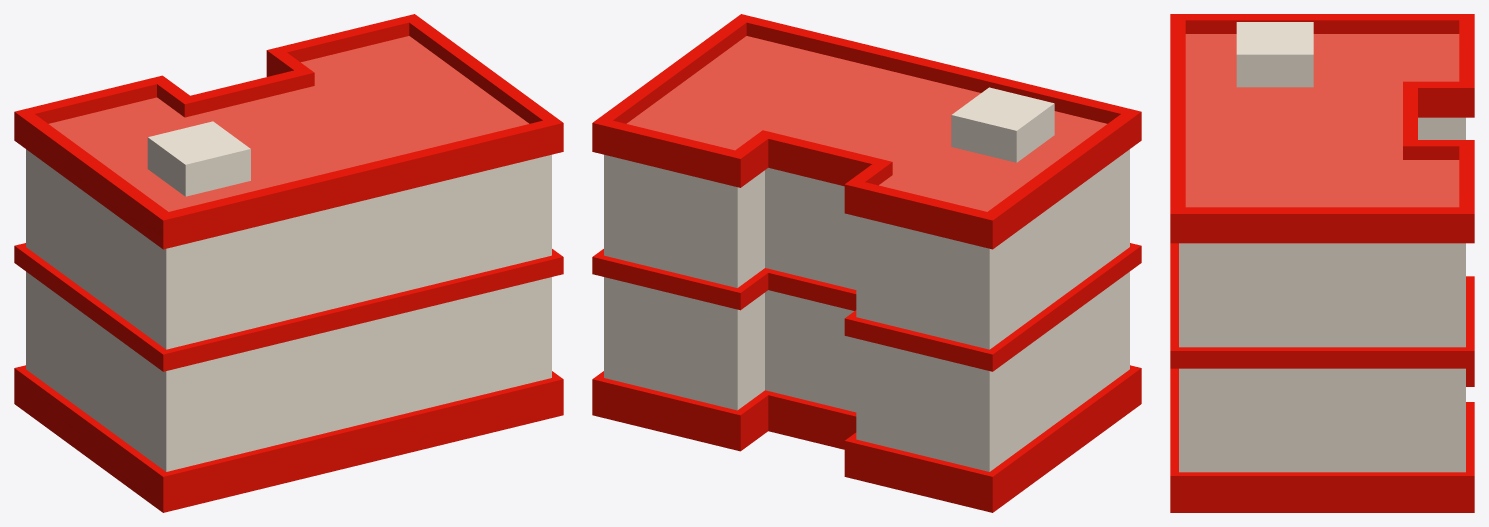
The model's file is Map-Apart-R.fbx.
3 renders of one model, left to right at view 1: azimuth 30°, elevation 25°; view 2: azimuth 150°, elevation 25°; view 3: azimuth 270°, elevation 25°, orthographic. The views are drawn at different scales.
Parts seen in each view (by area): view 1: Map-Apart-R; view 2: Map-Apart-R; view 3: Map-Apart-R.
Part boxes in pixels (left/top/right/bottom): Map-Apart-R: left=14, top=14, right=563, bottom=512; Map-Apart-R: left=592, top=14, right=1141, bottom=512; Map-Apart-R: left=1170, top=14, right=1474, bottom=512.
Bounding box in the file's own units: 1.75 × 1.3 × 1.13.
